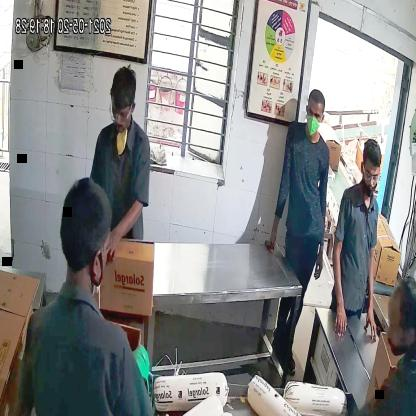goggles: (355, 164, 388, 185), (109, 97, 136, 122)
no_goggles: (306, 107, 326, 124)
